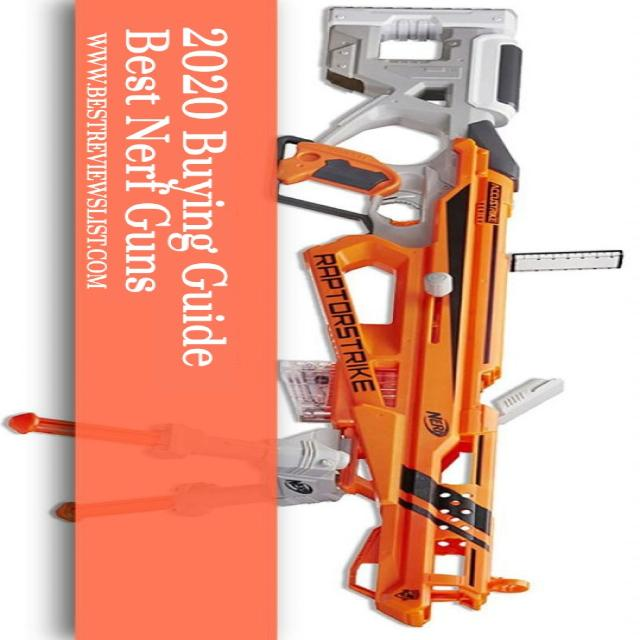Nerf gun: (0, 4, 582, 626)
